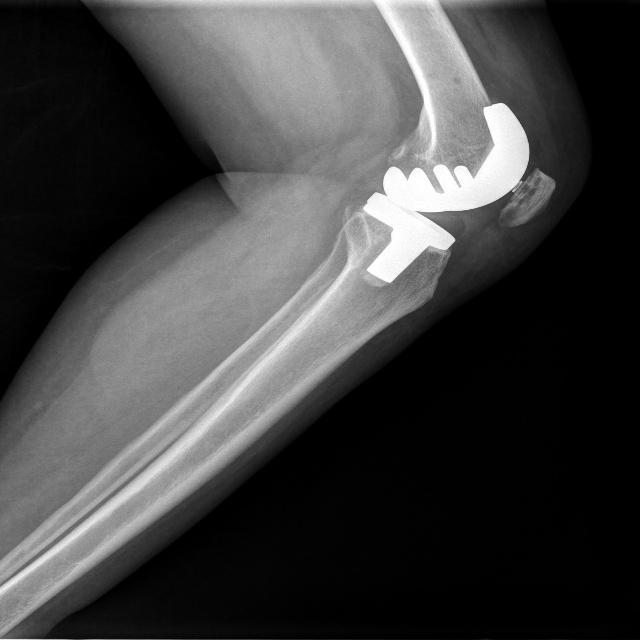Knee: (347, 101, 555, 300)
